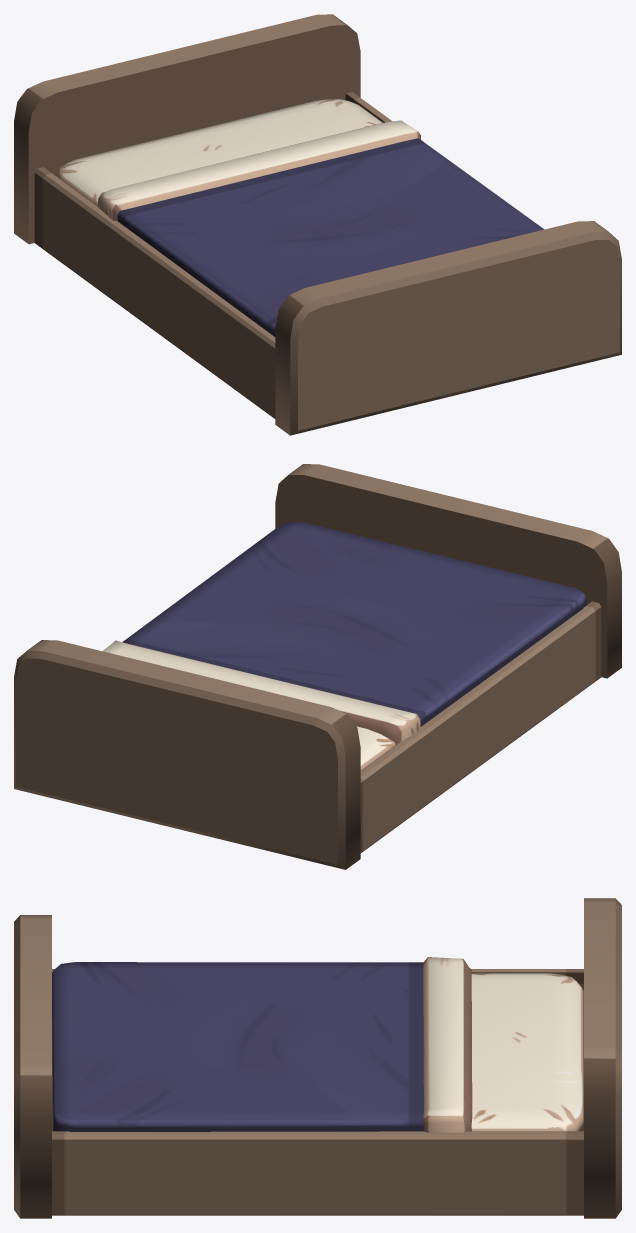
Rendered from housepack_bed_1.FBX.
The picture shows the model from 3 angles, top to bottom: view 1: azimuth 30°, elevation 25°; view 2: azimuth 150°, elevation 25°; view 3: azimuth 270°, elevation 25°; orthographic projection. The views are drawn at different scales.
Parts seen in each view (by area): view 1: housepack_bed_1; view 2: housepack_bed_1; view 3: housepack_bed_1.
Boxes of the visible parts, x1,y1,x2,y2 form: housepack_bed_1: (14, 14, 621, 435); housepack_bed_1: (14, 464, 621, 869); housepack_bed_1: (14, 898, 621, 1218).
Bounding box in the file's own units: 99.69 × 41.62 × 147.
